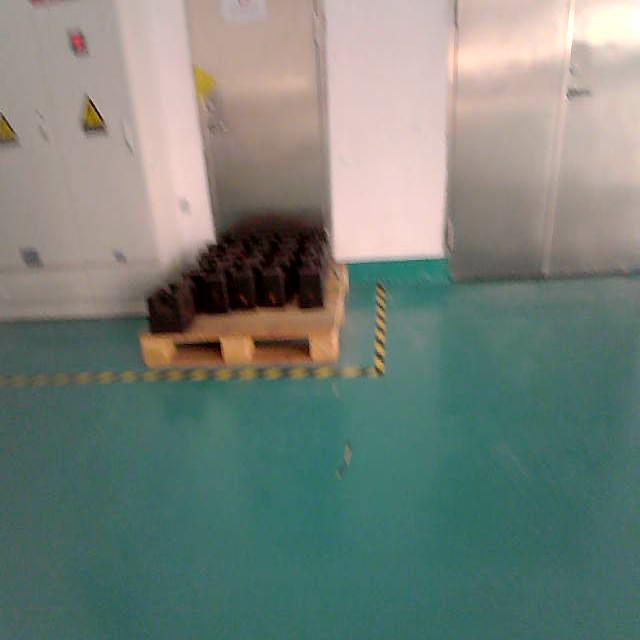euro: (139, 215, 347, 365)
